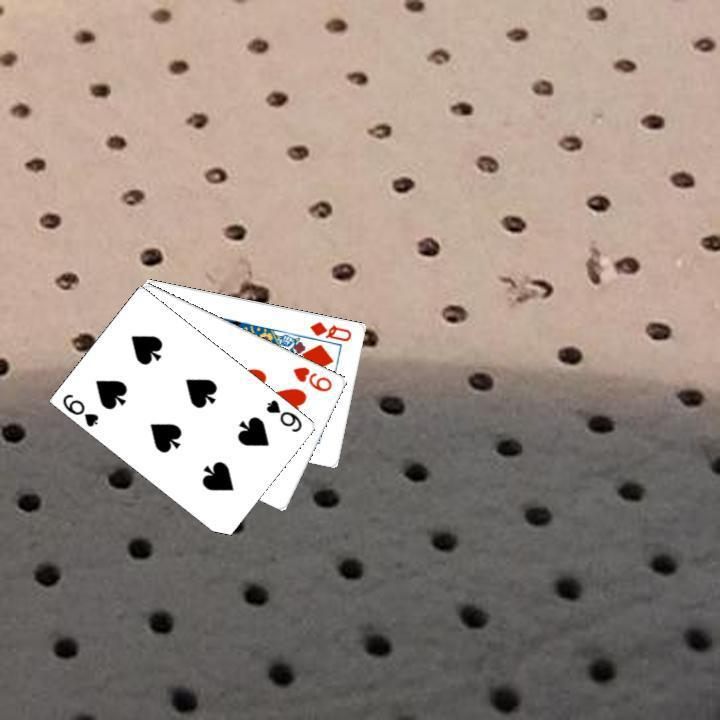6: (58, 389, 101, 429), (262, 395, 305, 434)
9: (289, 362, 334, 394)
Q: (306, 316, 354, 343)
